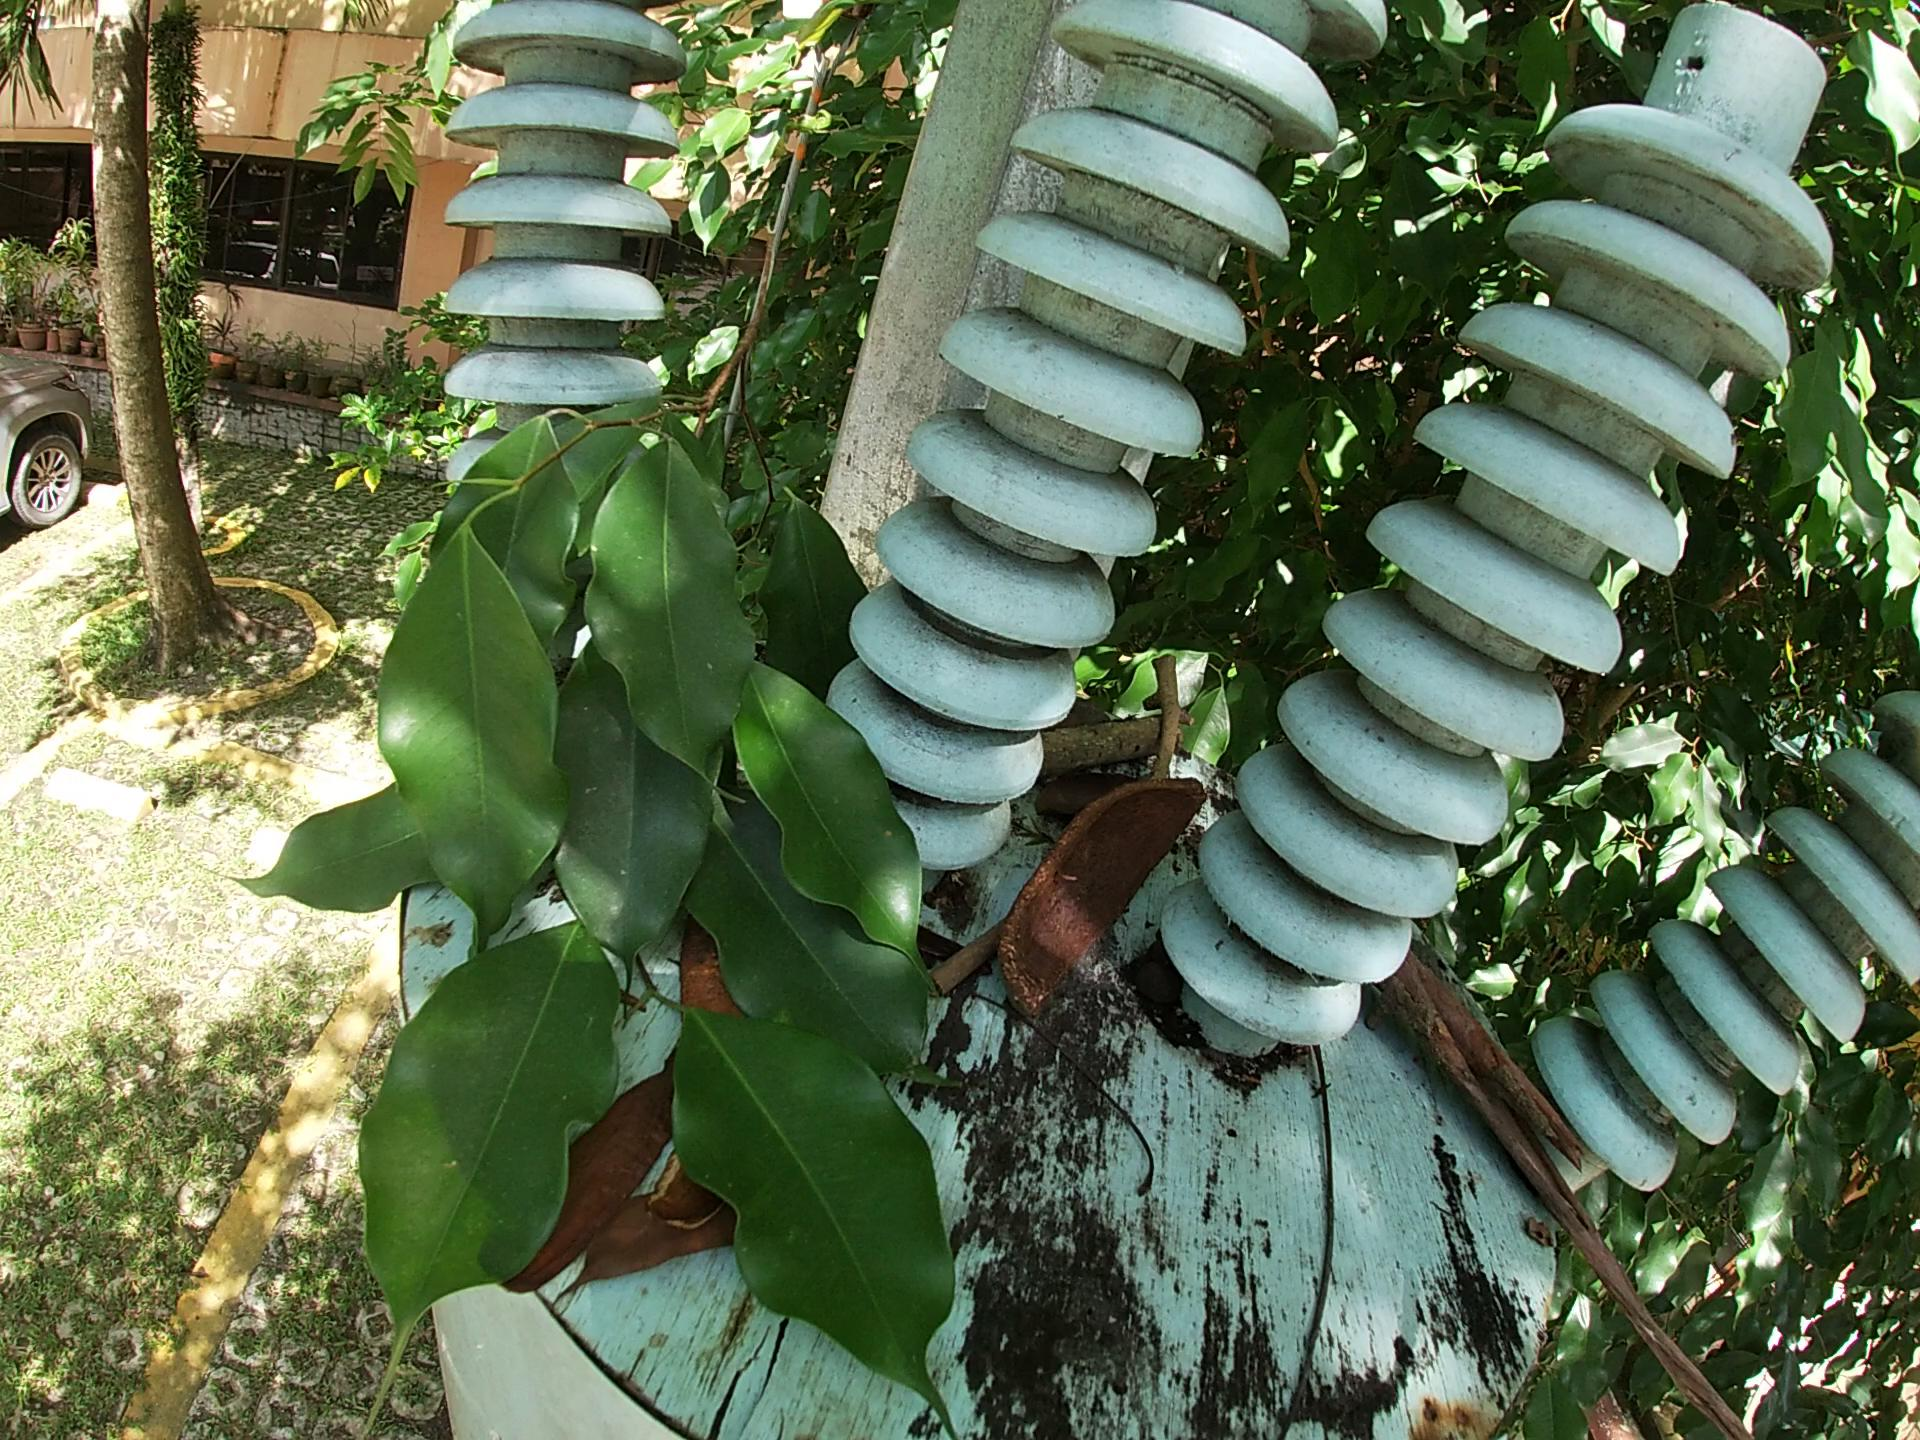branch with leaves: (88, 163, 948, 1429)
leaf: (597, 1196, 736, 1293), (674, 914, 709, 1038)
mahogany fruit: (479, 1056, 706, 1301), (1011, 777, 1217, 1029)
tree branch: (1364, 911, 1813, 1438), (946, 998, 1182, 1206), (1299, 976, 1353, 1438), (1019, 714, 1178, 781), (937, 936, 996, 1016), (1158, 643, 1182, 793)
